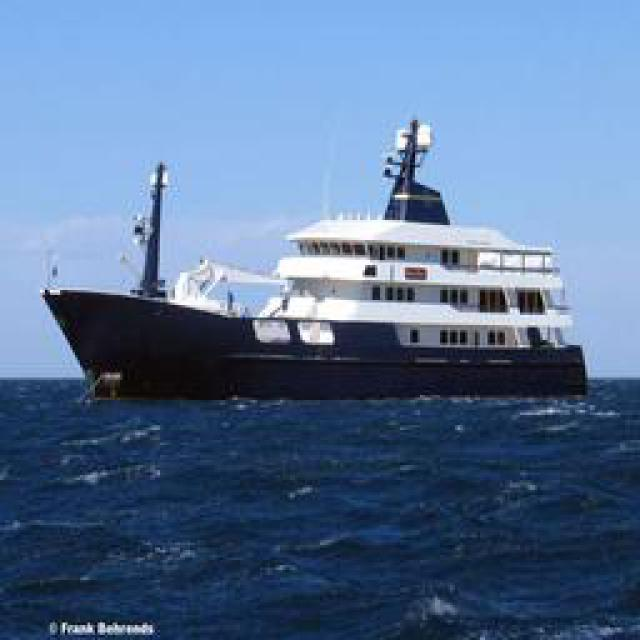Ship: (51, 109, 584, 392)
